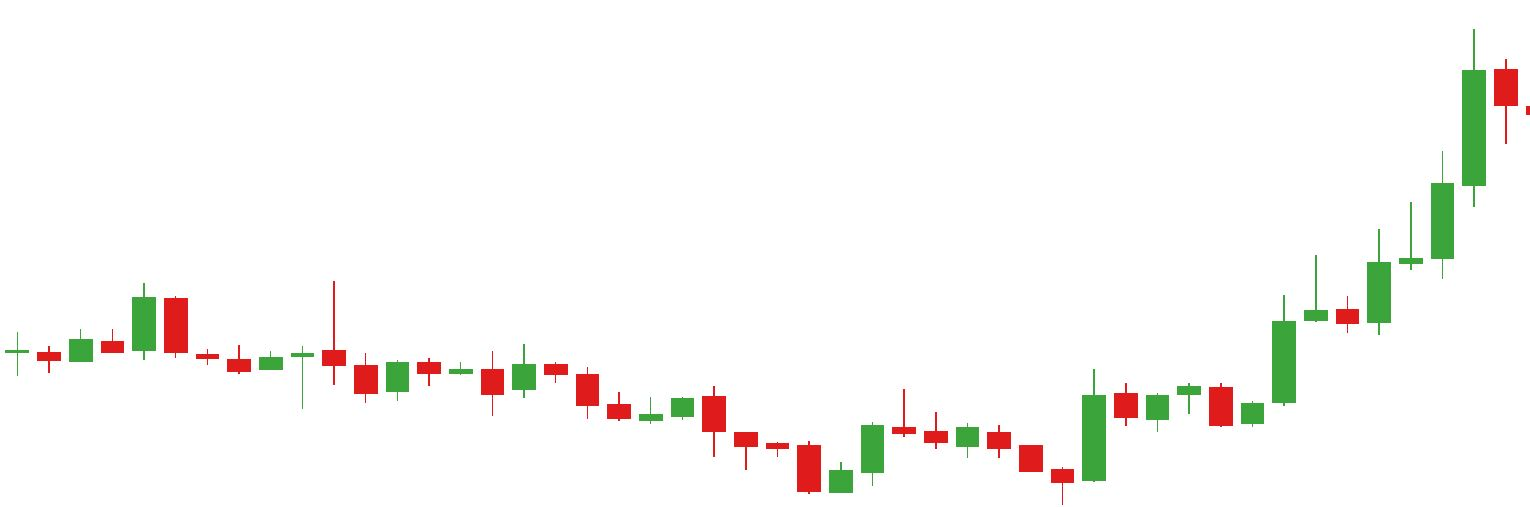buy: (795, 424, 1081, 507)
